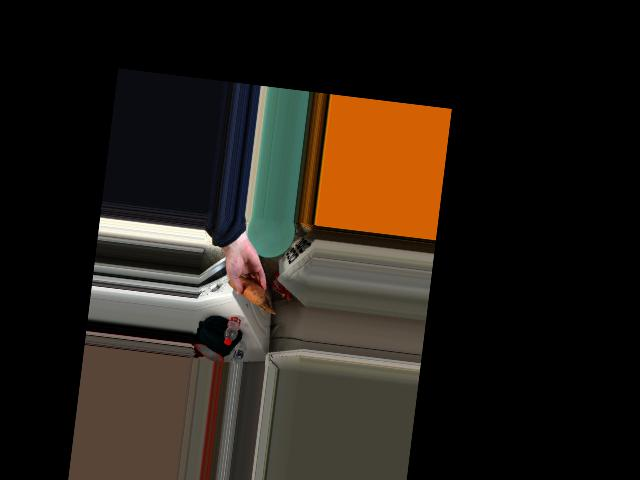sweet_potato: (230, 271, 266, 306)
